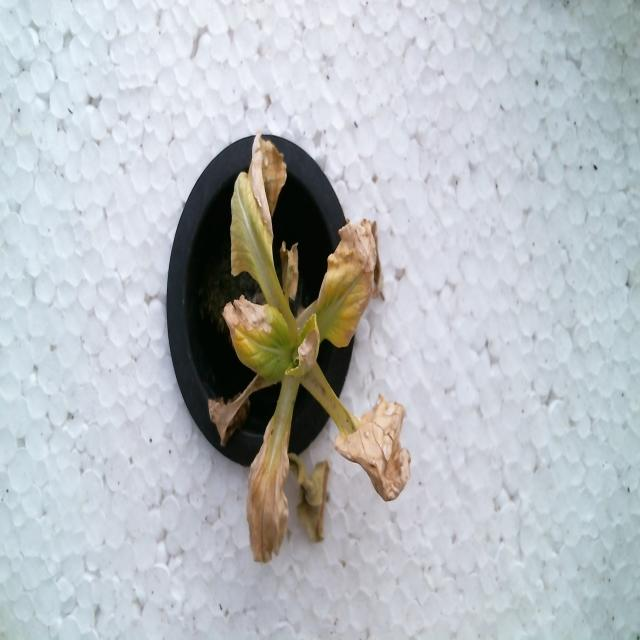pakcoy_tidak_sehat: (197, 91, 434, 592)
